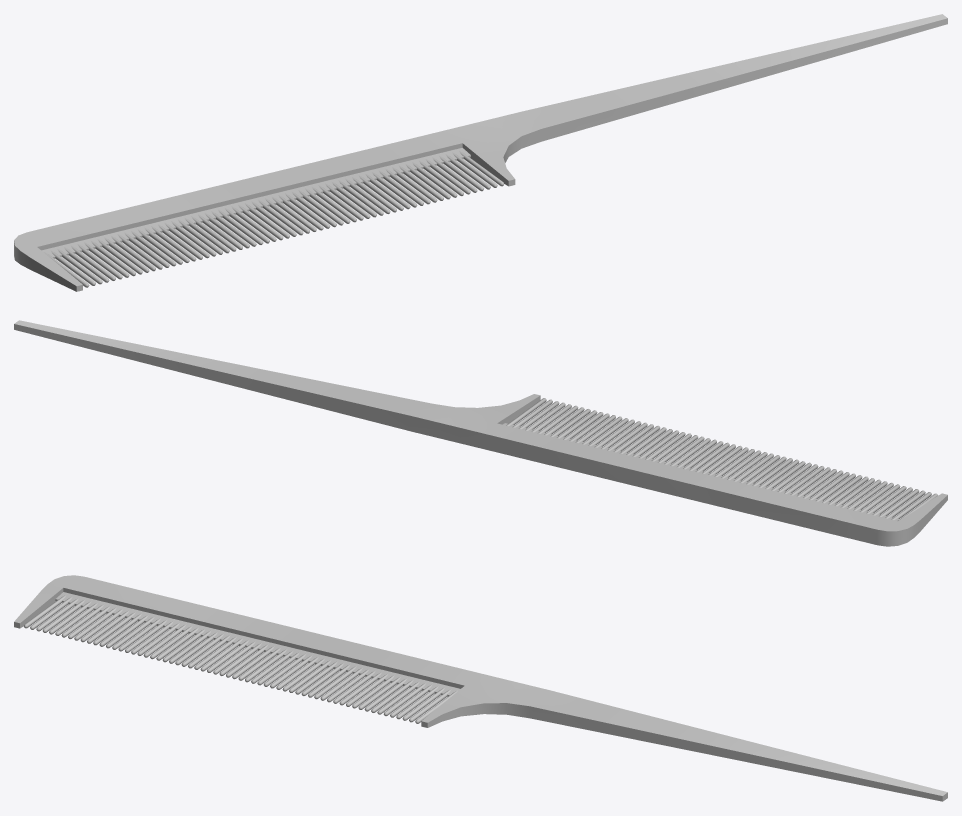
File: comb.glb
3 renders of one model, top to bottom at view 1: azimuth 30°, elevation 25°; view 2: azimuth 150°, elevation 25°; view 3: azimuth 330°, elevation 25°, orthographic. The views are drawn at different scales.
Parts seen in each view (by area): view 1: comb; view 2: comb; view 3: comb.
Part boxes in pixels (x1,y1,x2,y2): comb: [14, 14, 947, 291]; comb: [14, 320, 947, 546]; comb: [14, 575, 947, 801].
Bounding box in the file's own units: 0.2149 × 0.00362 × 0.0247.
1 material, 1 textured.
